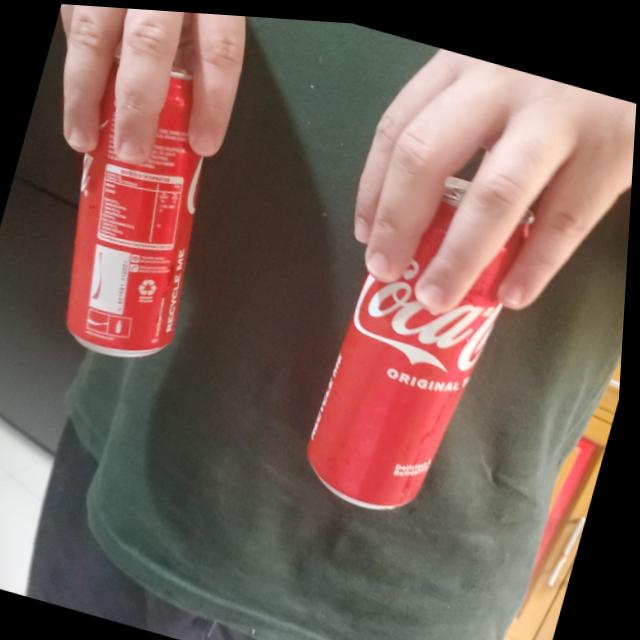coke: (300, 153, 538, 524), (34, 43, 246, 372)
